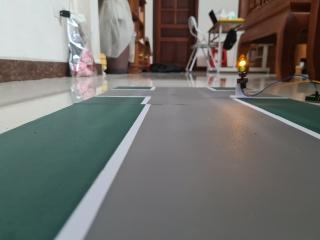yellow: (231, 45, 253, 79)
